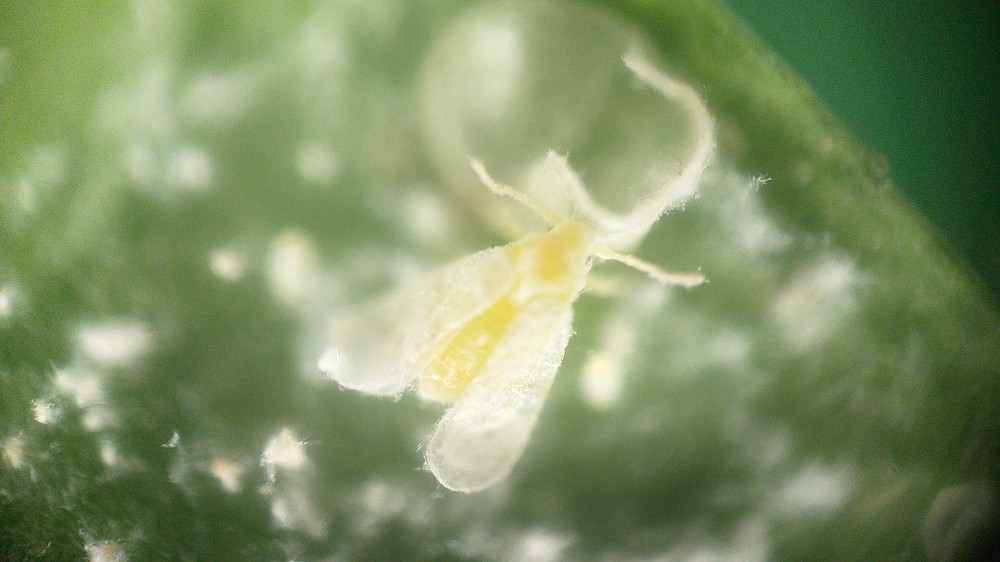Mosca Blanca: (312, 152, 717, 511)
